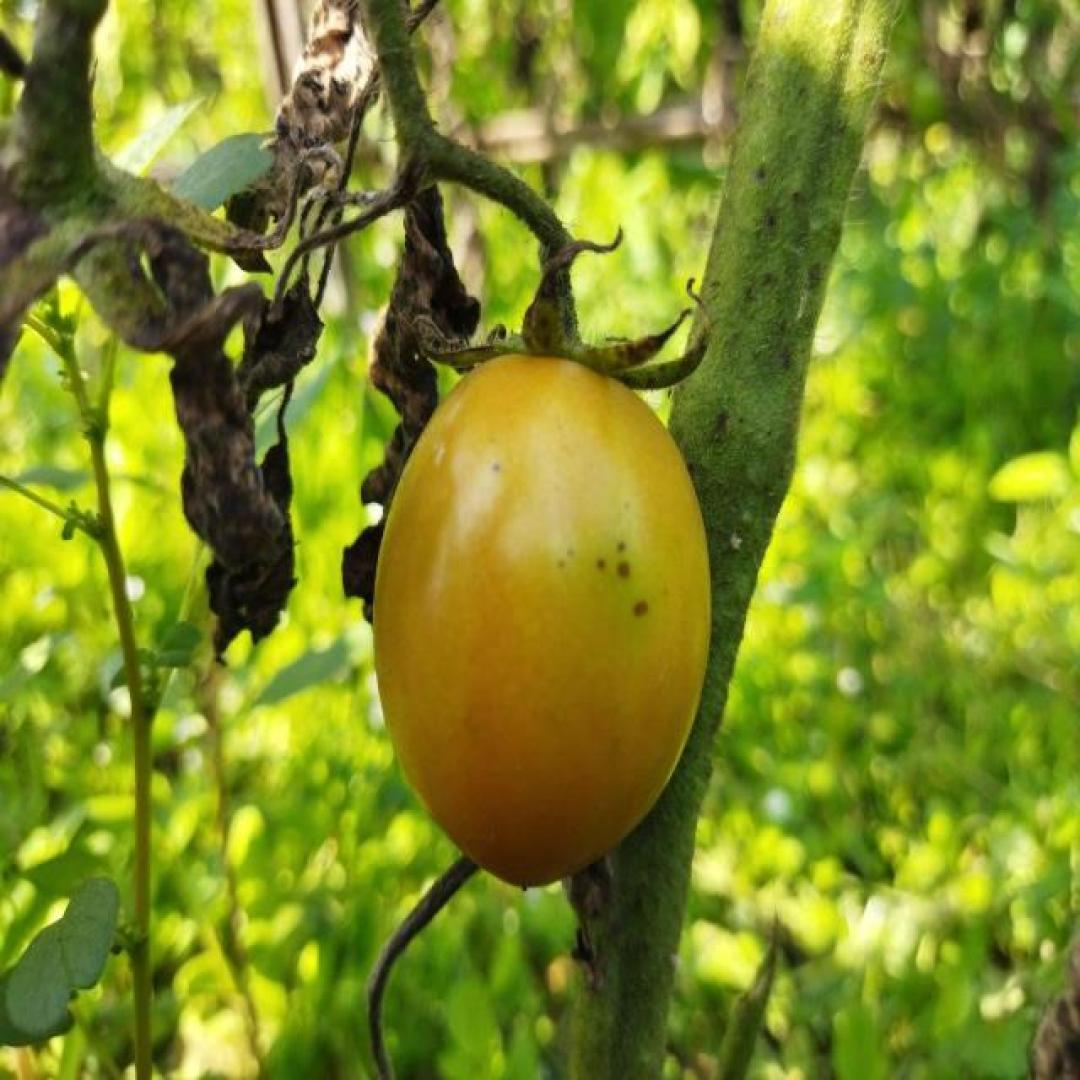setengah_matang: (370, 340, 714, 894)
